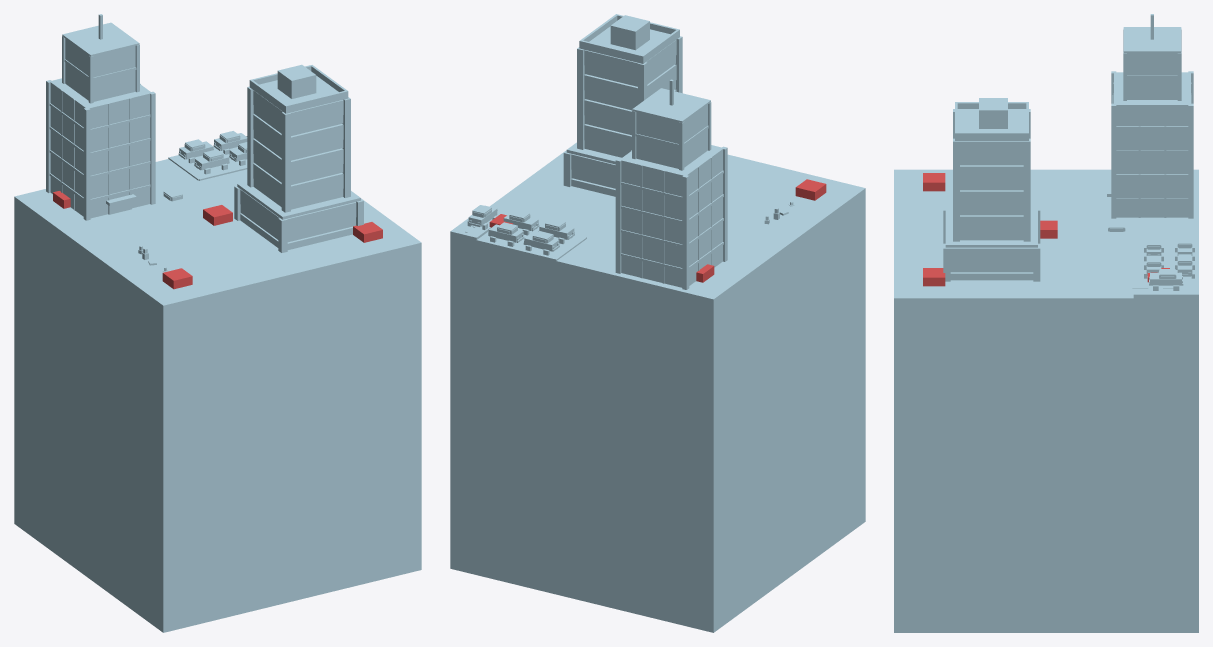
Rendered from block_8_sewersystem_100.glb.
3 renders of one model, left to right at view 1: azimuth 30°, elevation 25°; view 2: azimuth 150°, elevation 25°; view 3: azimuth 270°, elevation 25°, orthographic. The views are drawn at different scales.
Visible parts, largest first — view 1: Patch_UpperLeft_b05_SL, Commercial_UpperLeft_SL, SL_Net_08, Green_UpperLeft_j5_SL, Roads_UpperLeft_b05_SL, ULPark_Car02.001_SL; view 2: Patch_UpperLeft_b05_SL, Commercial_UpperLeft_SL, Green_UpperLeft_j5_SL, SL_Net_08, Roads_UpperLeft_b05_SL, ULPark_Car00_SL, ULPark_Car00.001_SL; view 3: Patch_UpperLeft_b05_SL, Commercial_UpperLeft_SL, Roads_UpperLeft_b05_SL, Green_UpperLeft_j5_SL, SL_Net_08, ULCar_013_SL.
Part boxes in pixels (box(x1,y1,x2,y2)): Patch_UpperLeft_b05_SL: box(14, 159, 421, 632); Commercial_UpperLeft_SL: box(46, 14, 363, 252); SL_Net_08: box(53, 191, 382, 289); Green_UpperLeft_j5_SL: box(14, 147, 420, 337); Roads_UpperLeft_b05_SL: box(14, 136, 421, 336); ULPark_Car02.001_SL: box(194, 149, 229, 174); Patch_UpperLeft_b05_SL: box(450, 150, 865, 632); Commercial_UpperLeft_SL: box(563, 14, 727, 289); Green_UpperLeft_j5_SL: box(450, 225, 804, 328); SL_Net_08: box(489, 179, 826, 282); Roads_UpperLeft_b05_SL: box(450, 211, 865, 327); ULPark_Car00_SL: box(488, 222, 524, 246); ULPark_Car00.001_SL: box(523, 231, 559, 255); Patch_UpperLeft_b05_SL: box(894, 169, 1198, 632); Commercial_UpperLeft_SL: box(943, 14, 1193, 281); Roads_UpperLeft_b05_SL: box(894, 281, 1198, 341); Green_UpperLeft_j5_SL: box(894, 245, 1198, 341); SL_Net_08: box(923, 173, 1169, 286); ULCar_013_SL: box(1149, 269, 1183, 290).
Bounding box in the file's own units: 9.5 × 17.92 × 9.5.
